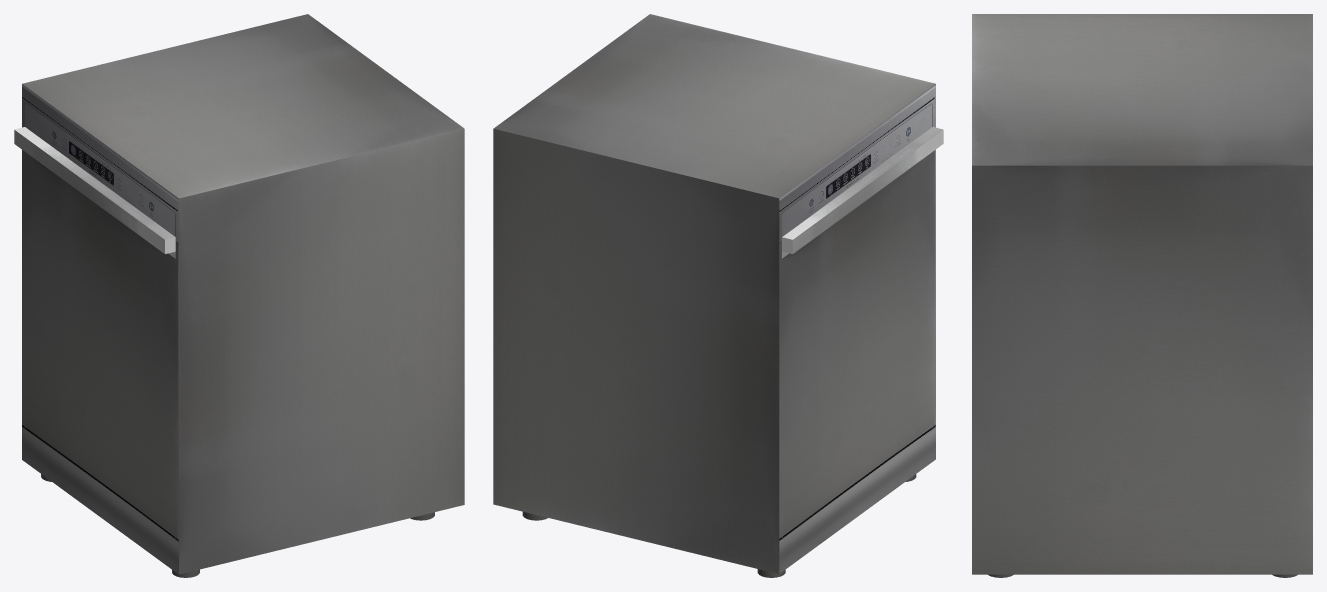
The model's file is Dishwasher.FBX.
3 renders of one model, left to right at view 1: azimuth 30°, elevation 25°; view 2: azimuth 150°, elevation 25°; view 3: azimuth 270°, elevation 25°, orthographic. The views are drawn at different scales.
Visible parts, largest first — view 1: Dishwasher; view 2: Dishwasher; view 3: Dishwasher.
Part boxes in pixels (box(x1,y1,x2,y2)): Dishwasher: box(14, 14, 464, 577); Dishwasher: box(493, 14, 943, 577); Dishwasher: box(972, 14, 1312, 577).
Bounding box in the file's own units: 64.42 × 80.52 × 58.94.
1 material, 1 textured.
